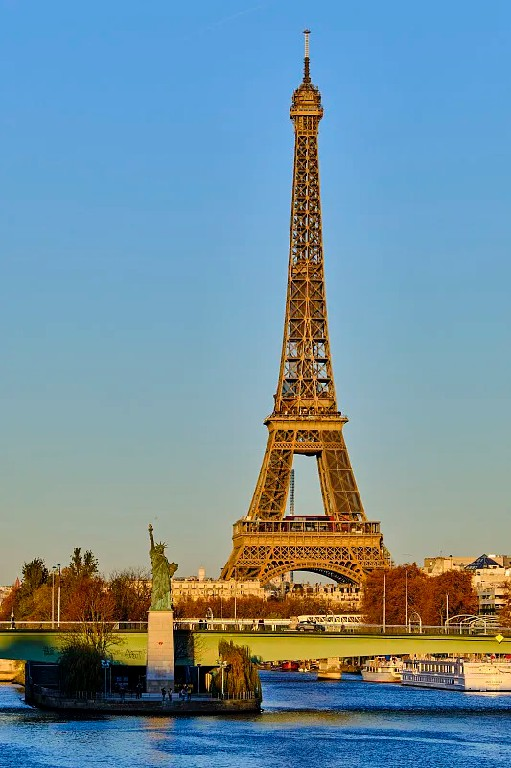Eiffel: (218, 28, 392, 588)
